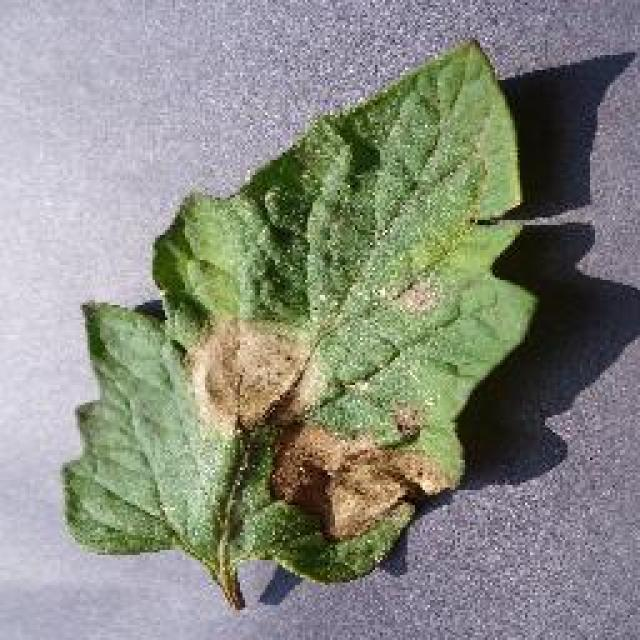Tomato Late Blight: (180, 286, 458, 536)
